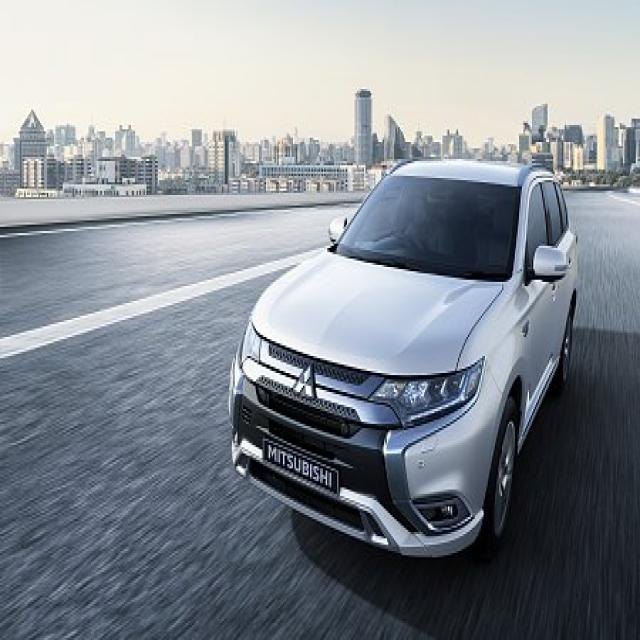light_vehicle: (227, 158, 581, 563)
